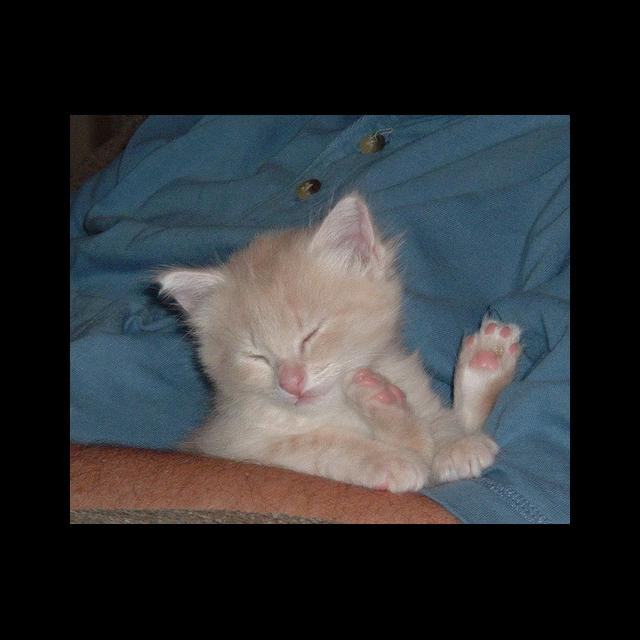animals: (155, 198, 370, 392)
